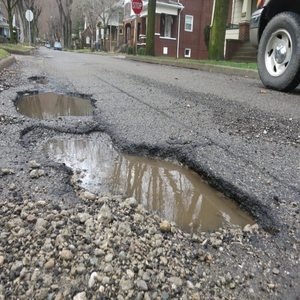pothole: (17, 125, 286, 248), (14, 88, 102, 119)
